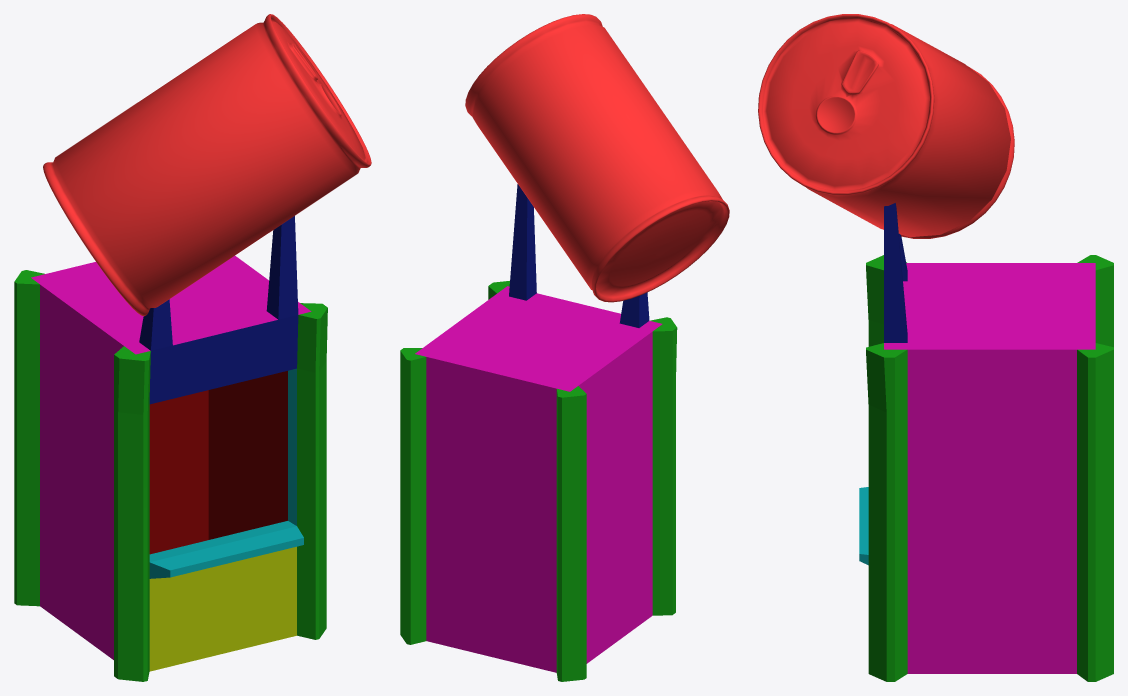
The model's file is Cbot_low.fbx.
3 views of the same model, side by side, from view 1: azimuth 30°, elevation 25°; view 2: azimuth 150°, elevation 25°; view 3: azimuth 270°, elevation 25° (orthographic). The views are drawn at different scales.
Parts seen in each view (by area): view 1: CanBooth_low, Can_low; view 2: CanBooth_low, Can_low; view 3: CanBooth_low, Can_low.
Boxes of the visible parts, x1=… form: CanBooth_low: x1=14, y1=216, x2=327, y2=681; Can_low: x1=43, y1=14, x2=371, y2=316; CanBooth_low: x1=400, y1=184, x2=677, y2=681; Can_low: x1=465, y1=14, x2=729, y2=302; CanBooth_low: x1=859, y1=203, x2=1113, y2=681; Can_low: x1=758, y1=14, x2=1014, y2=238.
Size of the model in its own units: 126 by 267 by 136.
